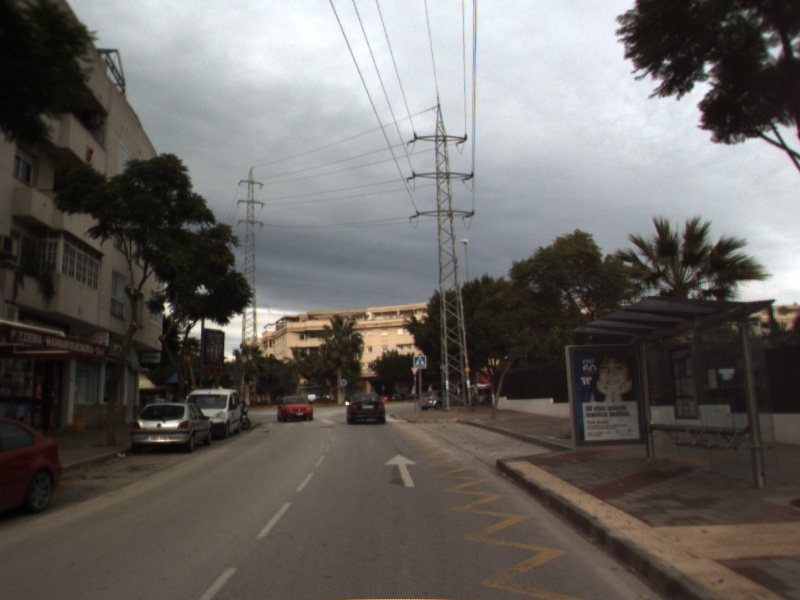STRAIGHT: (382, 451, 421, 489)
